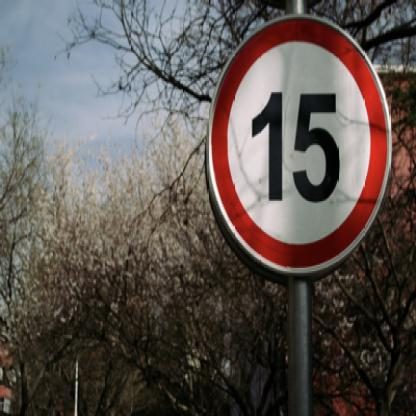speedlimit: (203, 13, 391, 281)
